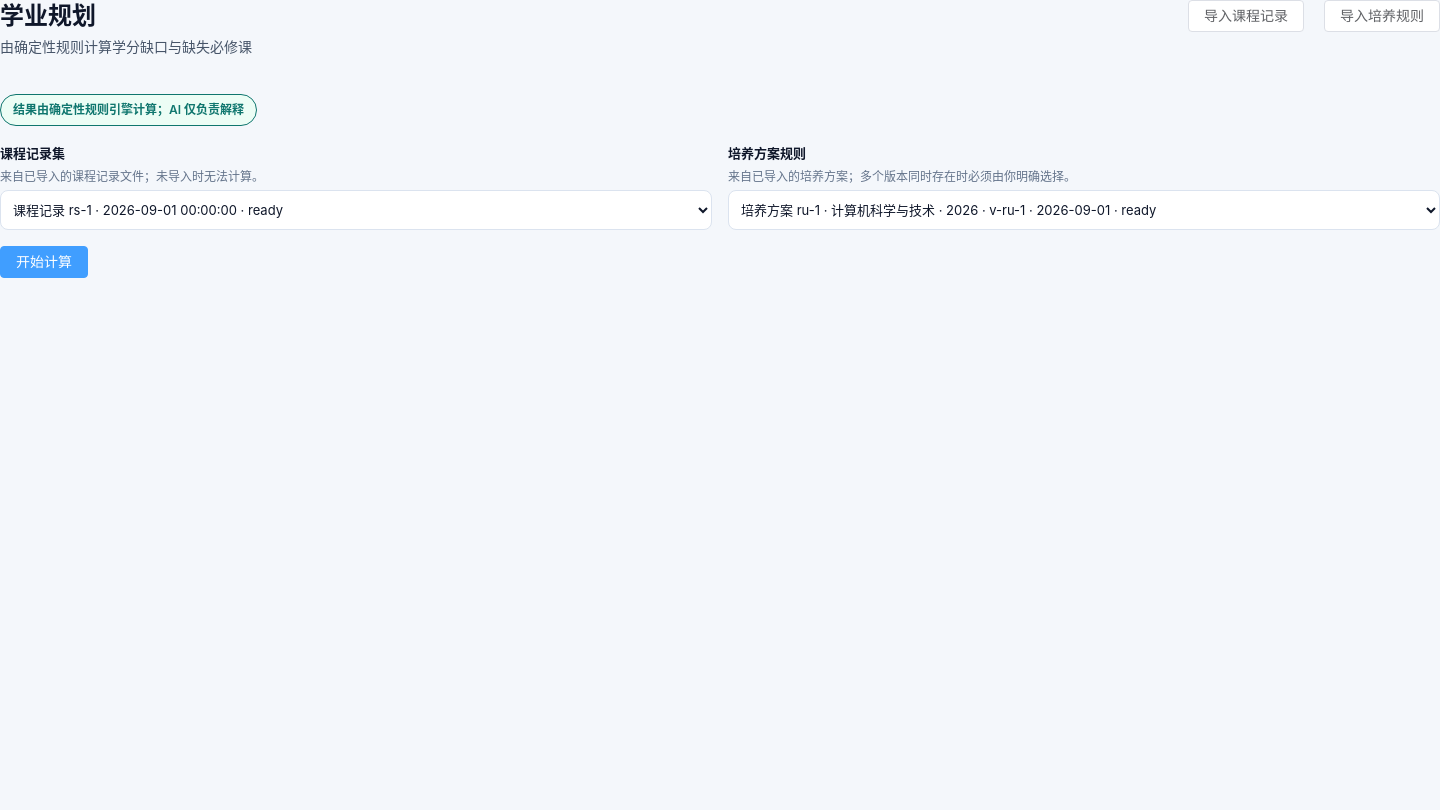
Test case: PlanningView evidence and lifecycle › moves the evidence into a drawer on narrower viewports
Click the button "开始计算" at (44, 262), box x1=0 y1=246 x2=88 y2=278
(page scrolled)
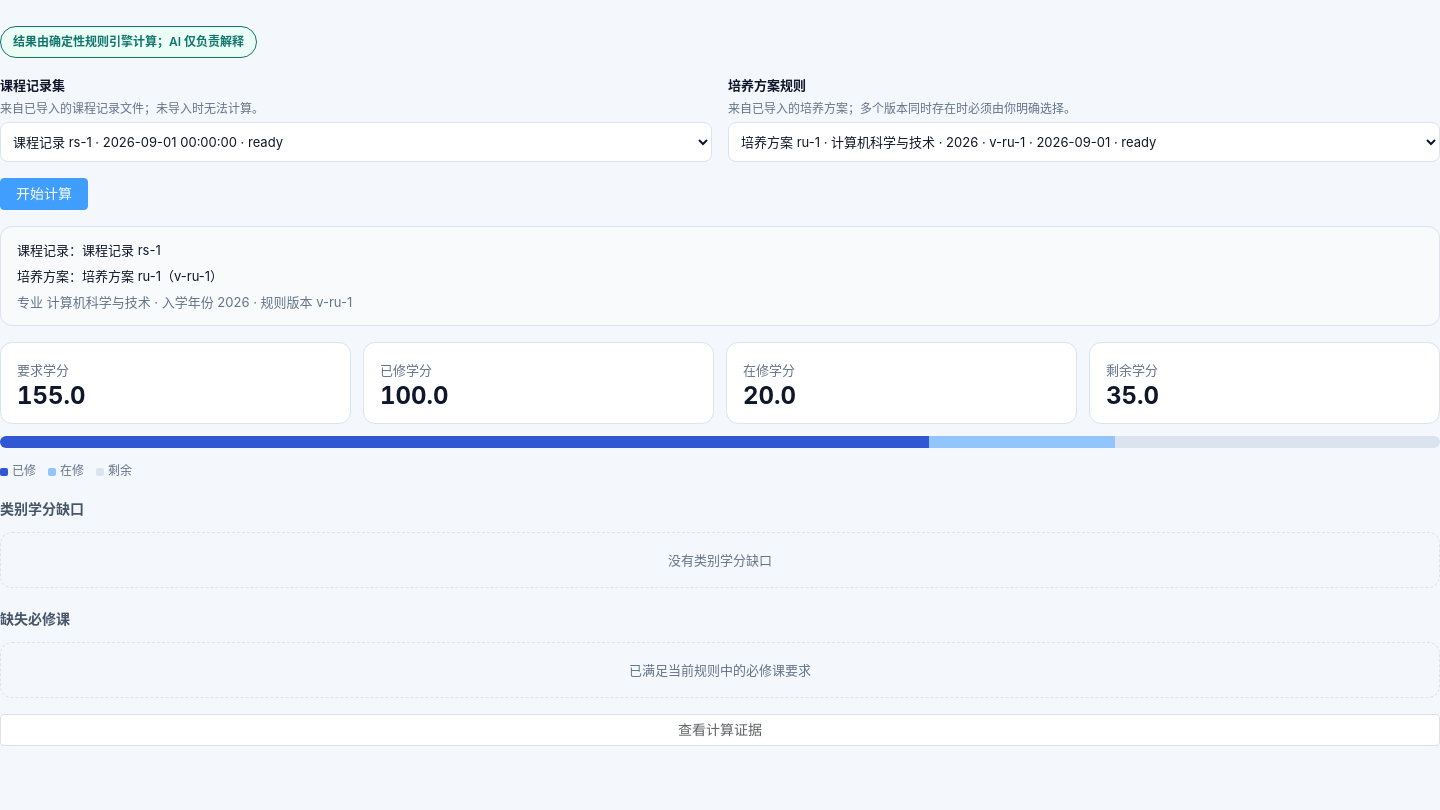
Check: the button "查看计算证据" is shown
Click the button "查看计算证据" at (720, 730), box x1=0 y1=714 x2=1439 y2=746
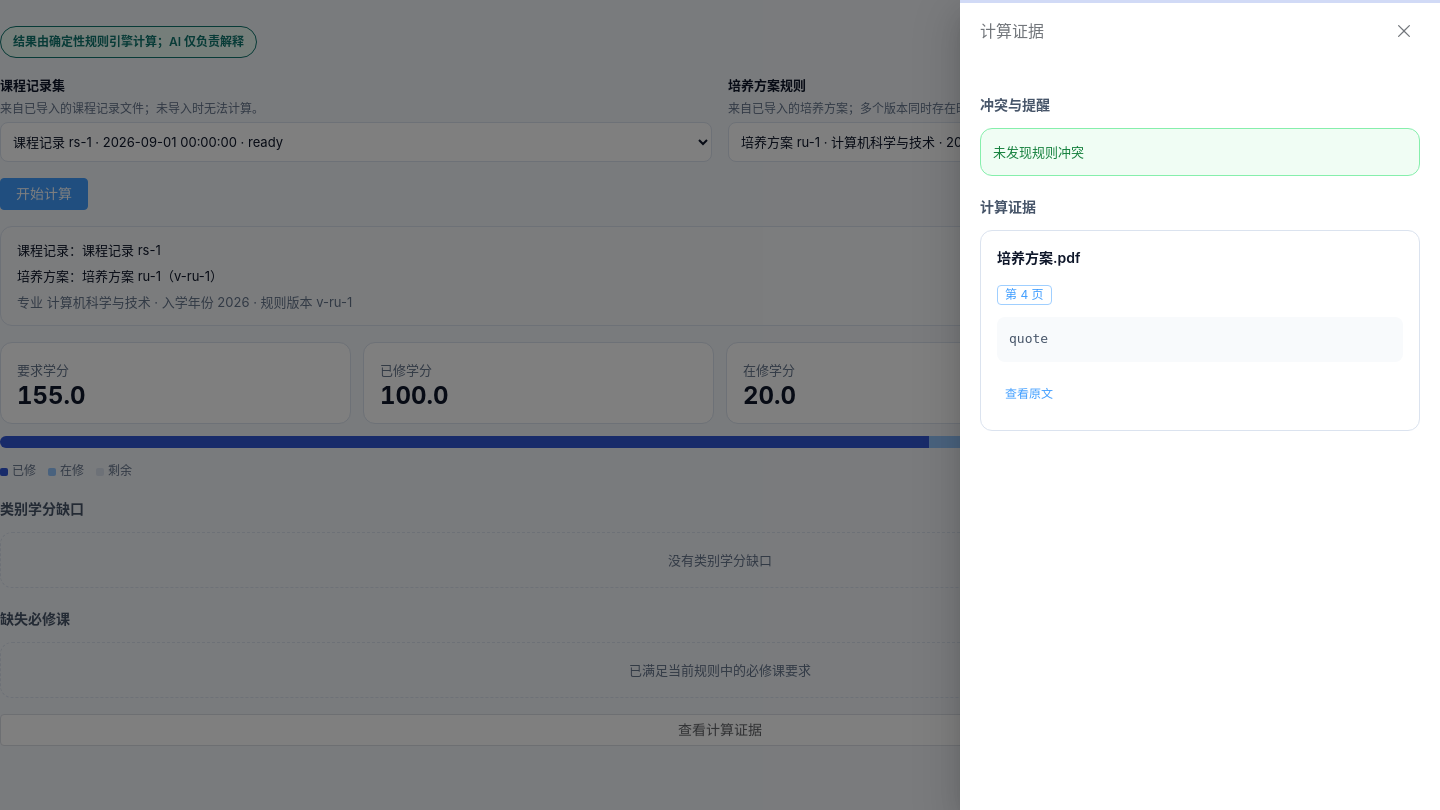
Check: the element with class "ep-evidence-card" is shown, box x1=980 y1=230 x2=1420 y2=431
